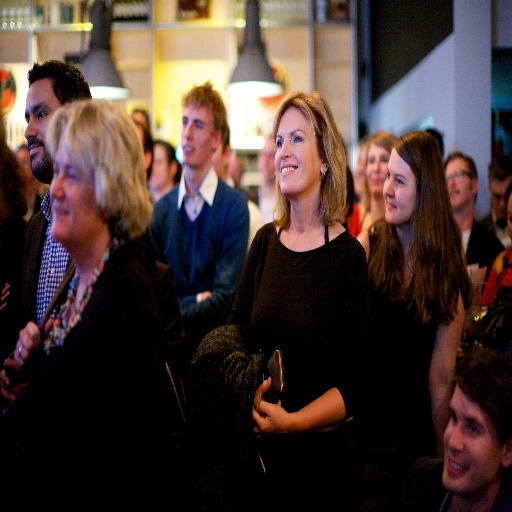hand: (13, 320, 53, 369), (0, 358, 27, 403), (250, 379, 283, 415), (0, 280, 10, 309), (200, 289, 211, 301)
